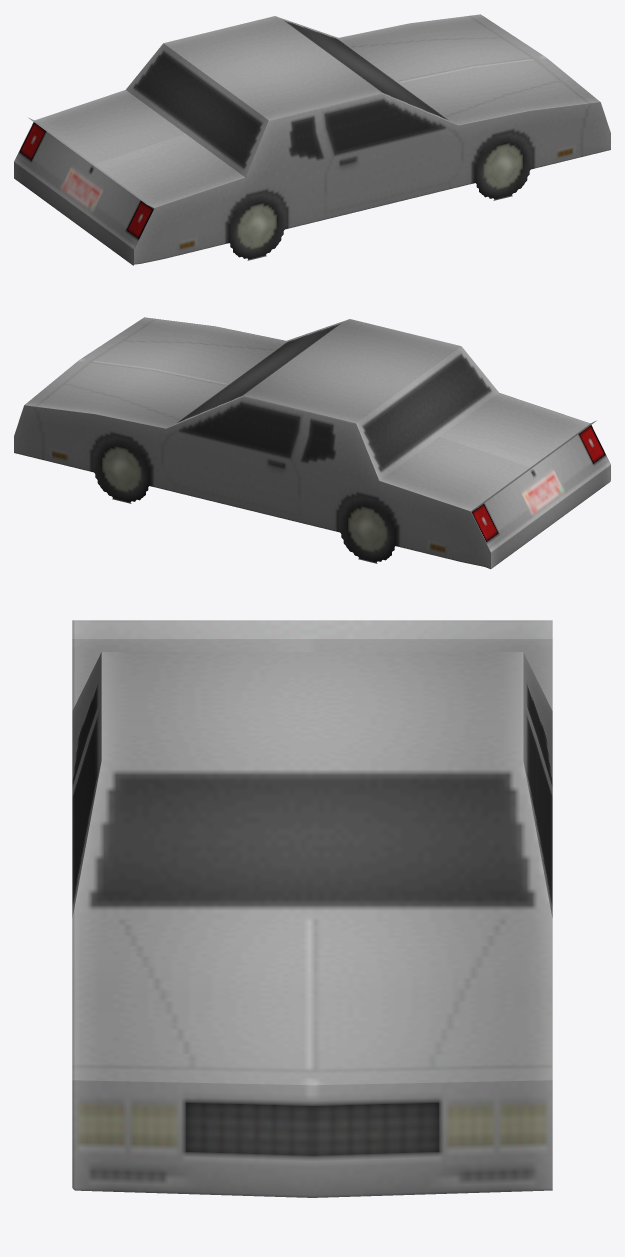
The model's file is carlo1.obj.
The picture shows the model from 3 angles, top to bottom: view 1: azimuth 30°, elevation 25°; view 2: azimuth 150°, elevation 25°; view 3: azimuth 270°, elevation 25°; orthographic projection. The views are drawn at different scales.
Visible parts, largest first — view 1: PRLD_NTM; view 2: PRLD_NTM; view 3: PRLD_NTM.
Boxes of the visible parts, <box> form: PRLD_NTM: <box>14,14,610,265</box>; PRLD_NTM: <box>14,317,610,569</box>; PRLD_NTM: <box>72,620,552,1197</box>.
Size of the model in its own units: 191 by 48.3 by 82.
